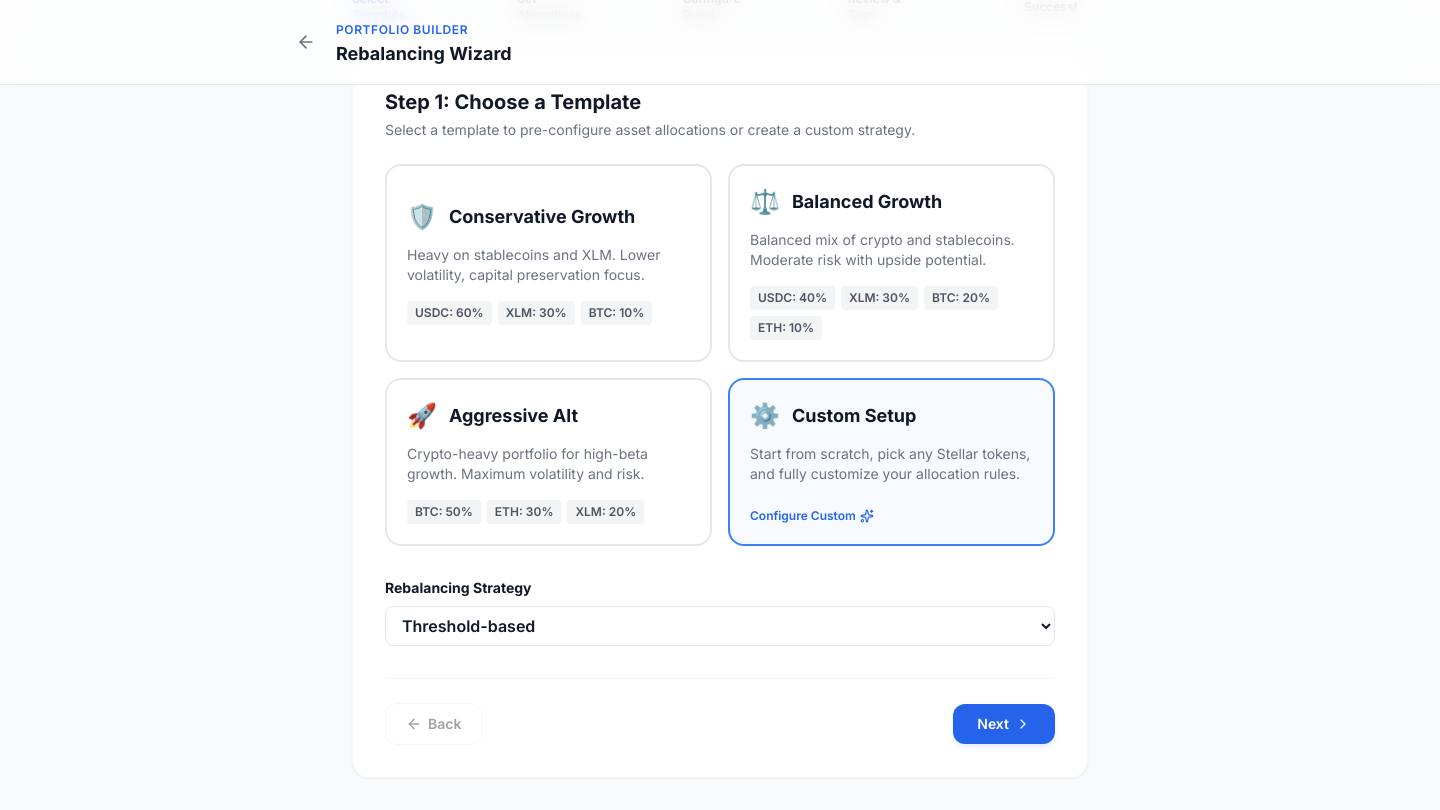
Test: PortfolioWizard Page › renders Step 1 with template options and allow moving to Step 2
This screenshot has width=1440, height=810.
(page scrolled)
Expected: the heading "Step 1: Choose a Template" is shown, top-left (385, 90), bottom-right (641, 114)
Expected: the text "Conservative Growth" is shown, top-left (449, 203), bottom-right (635, 231)
Click the button "Next": coordinates (1004, 724) top-left (953, 704), bottom-right (1055, 744)
(page scrolled)
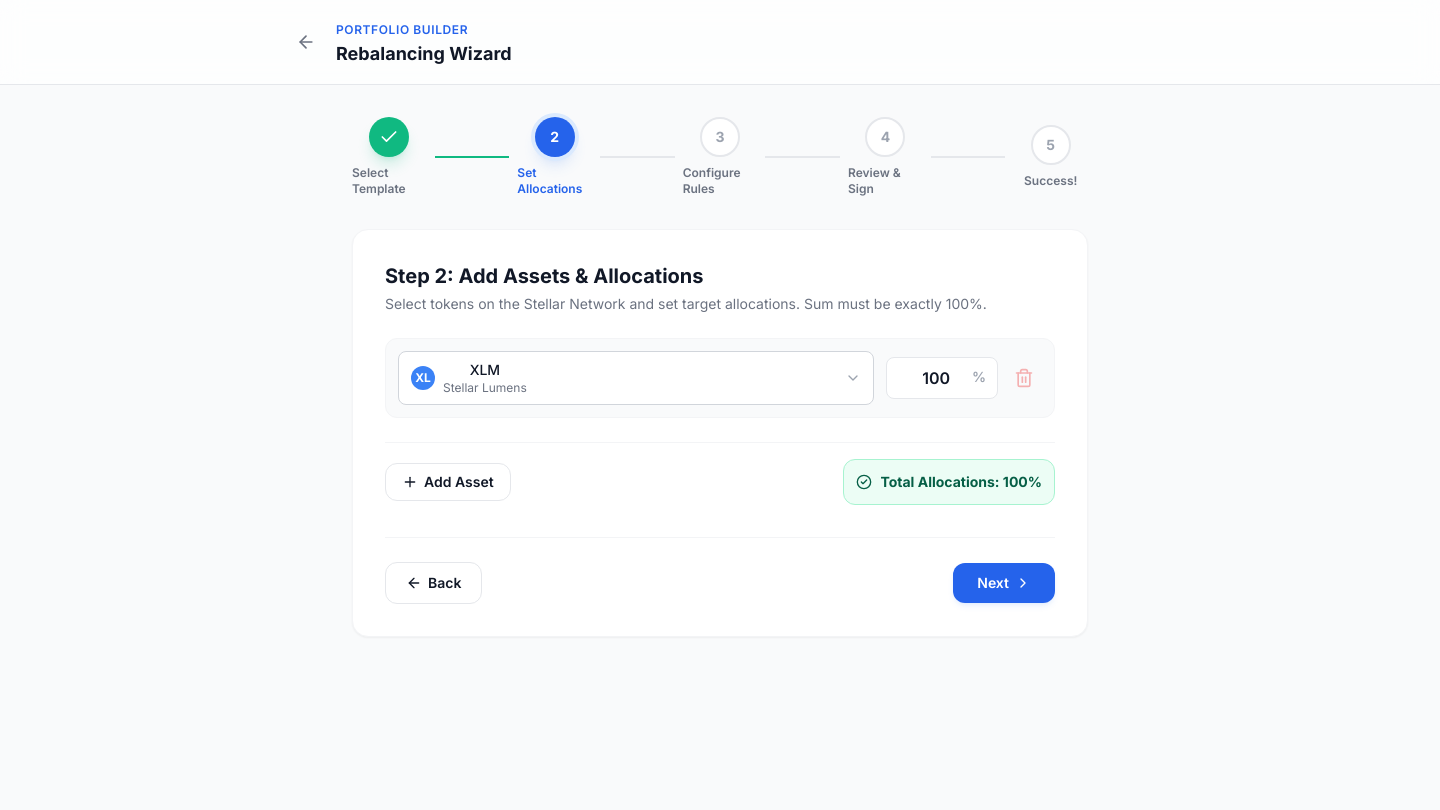
Expected: the heading "Step 2: Add Assets & Allocations" is shown, top-left (385, 264), bottom-right (704, 288)
